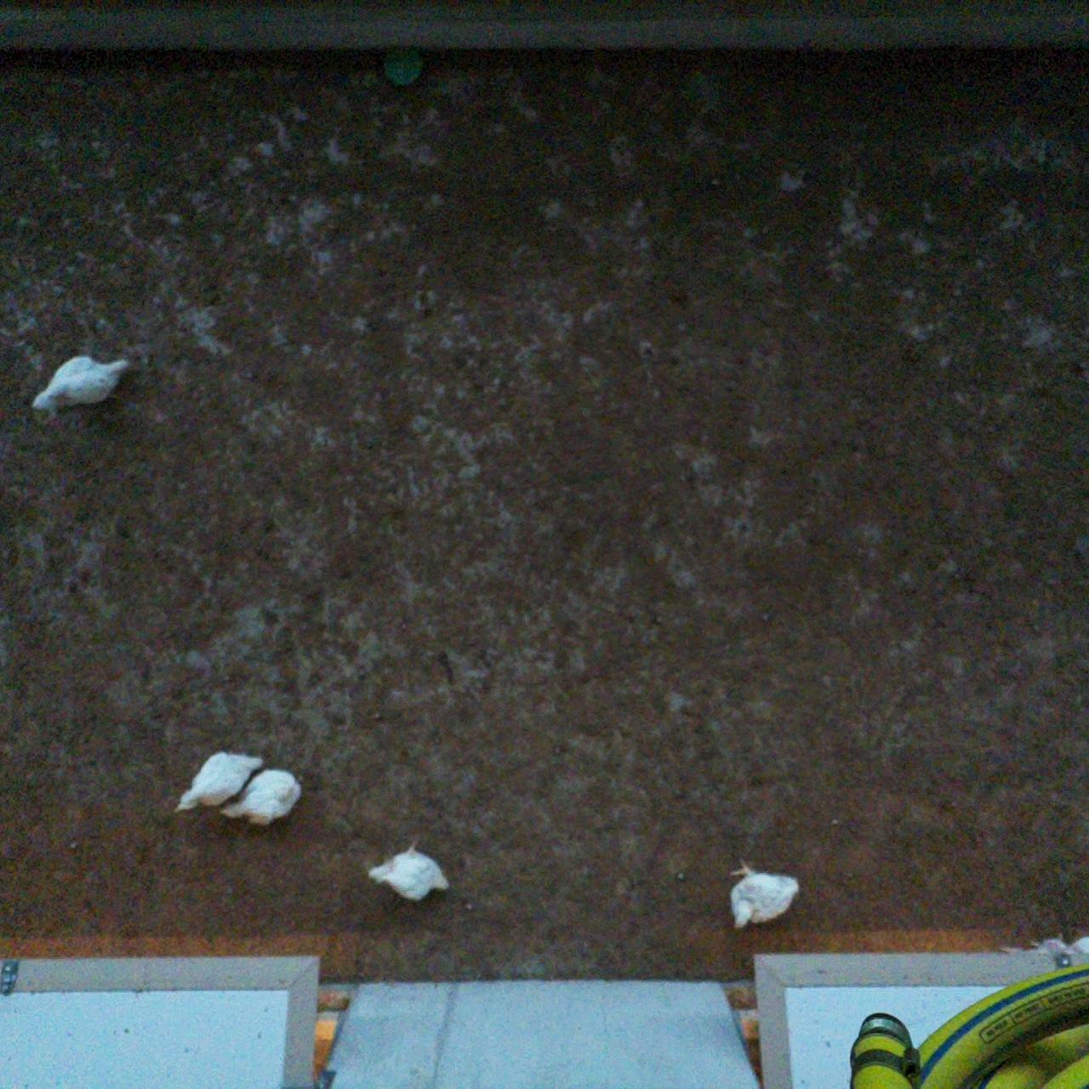chicken: (170, 744, 266, 827), (360, 830, 453, 910), (25, 352, 134, 420), (724, 853, 805, 938), (215, 764, 305, 834)
